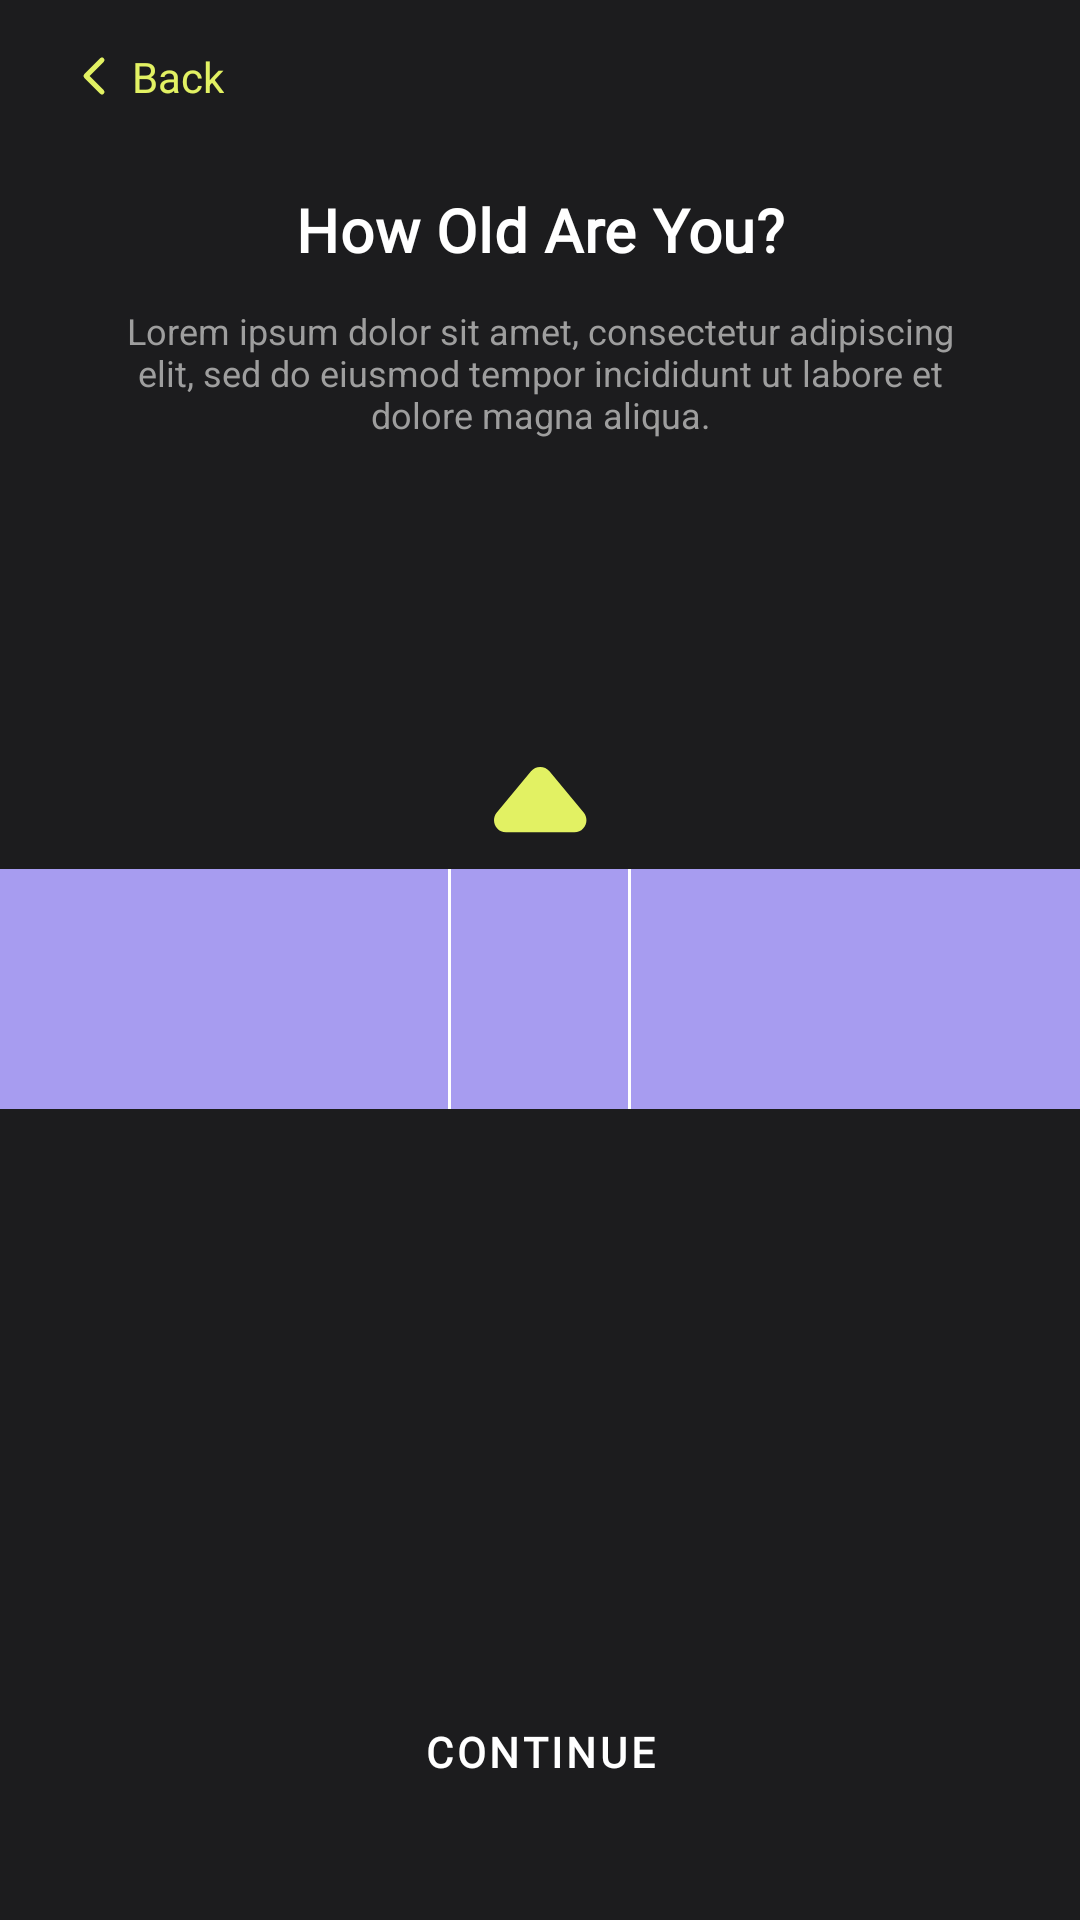

Where icons sit on this 1080px x 1920px app screen, as box(x1, y1, x2, y2):
triangle up: box(494, 767, 587, 833)
